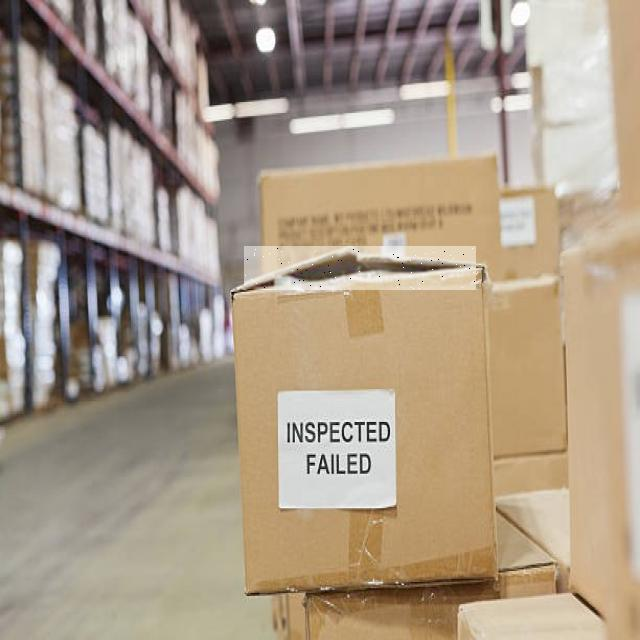tear: (245, 246, 475, 289)
